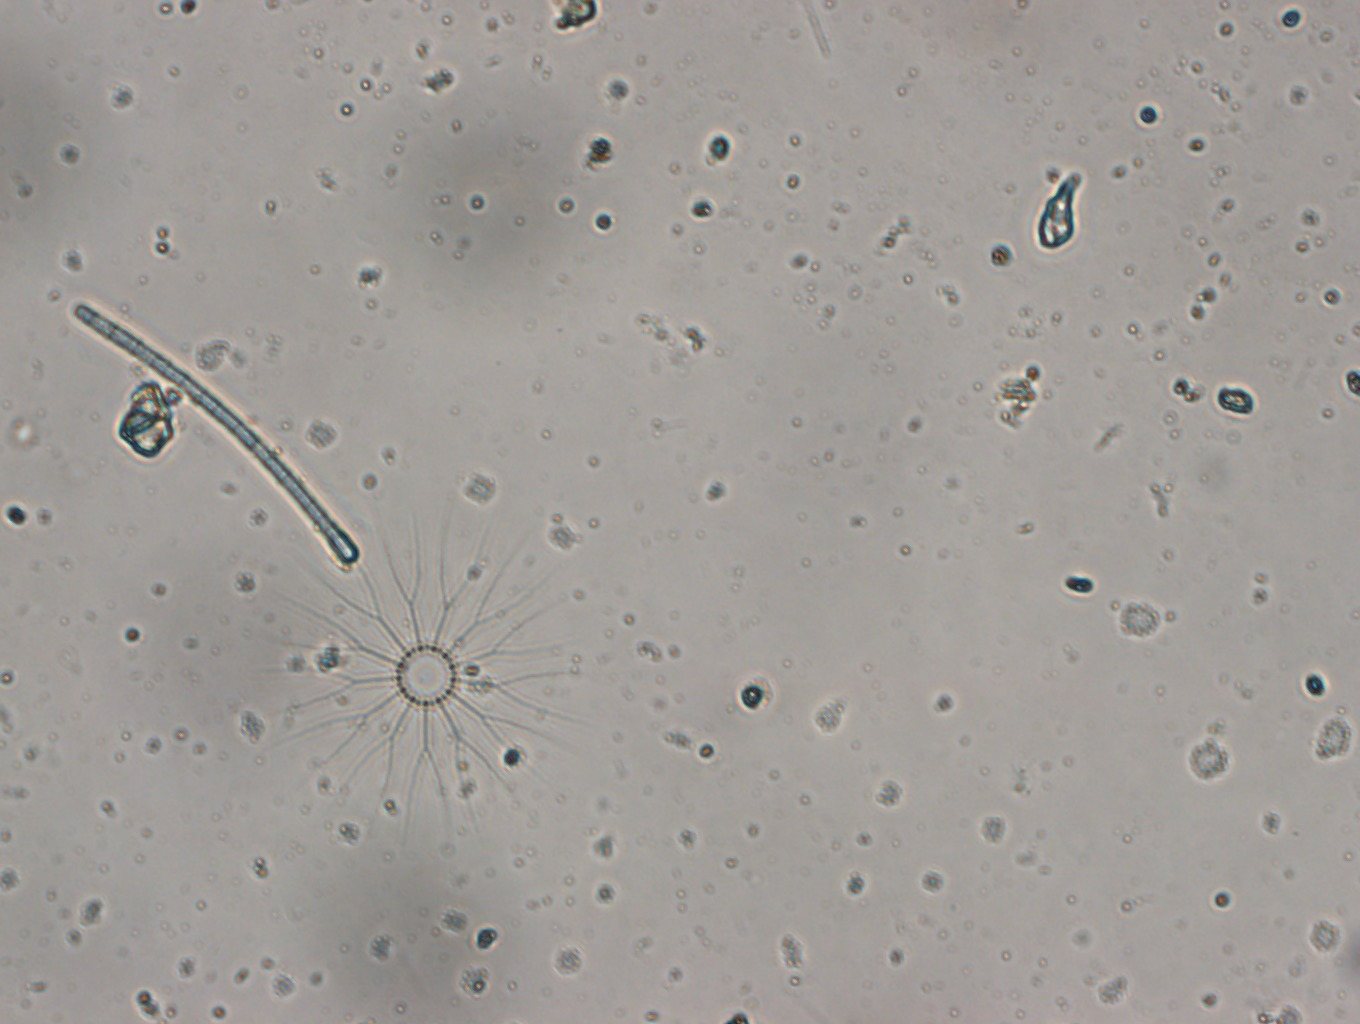bacteriastrum: (281, 529, 584, 863)
